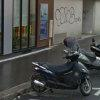Motorcycle: (24, 54, 94, 98)
